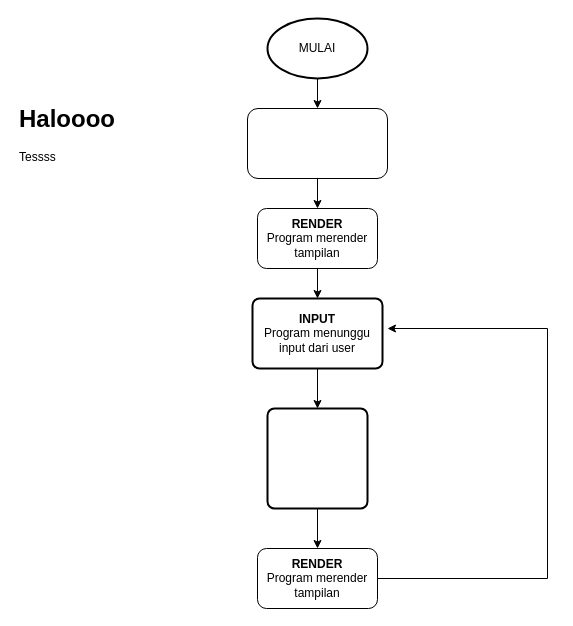
Some shapes in this 573 by 626 pixel diagram are drawn without their labels. Here are the shapes that lost their labels. From the top down, the centre of each, then its label:
the point at 317,143: INISIALISASI Program menyiapkan resource yang dibutuhkan
the point at 317,458: UPDATE Program mengecek logika input yang dimasukkan oleh user
